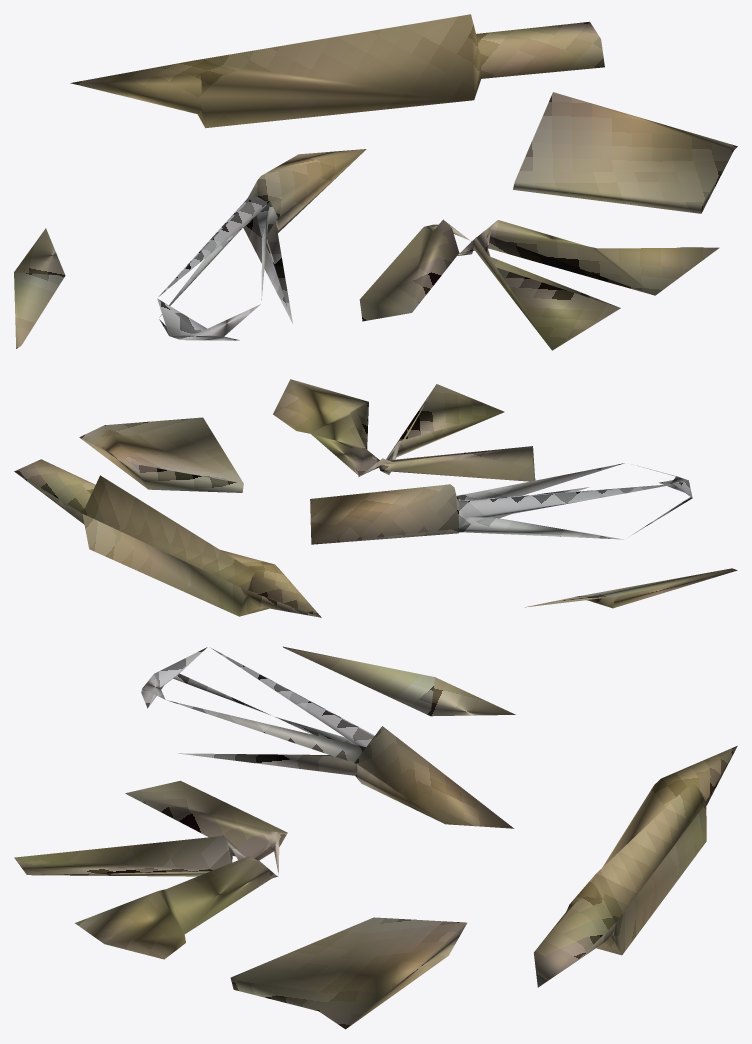
Rendered from BAKING_UTENSILS-low.glb.
3 renders of one model, top to bottom at view 1: azimuth 30°, elevation 25°; view 2: azimuth 150°, elevation 25°; view 3: azimuth 270°, elevation 25°, orthographic. The views are drawn at different scales.
Visible parts, largest first — view 1: BAKING_UTENSILS; view 2: BAKING_UTENSILS; view 3: BAKING_UTENSILS.
Part boxes in pixels (x1=…): BAKING_UTENSILS: x1=14, y1=14, x2=737, y2=350; BAKING_UTENSILS: x1=14, y1=379, x2=737, y2=617; BAKING_UTENSILS: x1=14, y1=646, x2=737, y2=1029.
Bounding box in the file's own units: 0.3056 × 0.0331 × 0.2462.
Materials: 1 (1 with a texture image).
